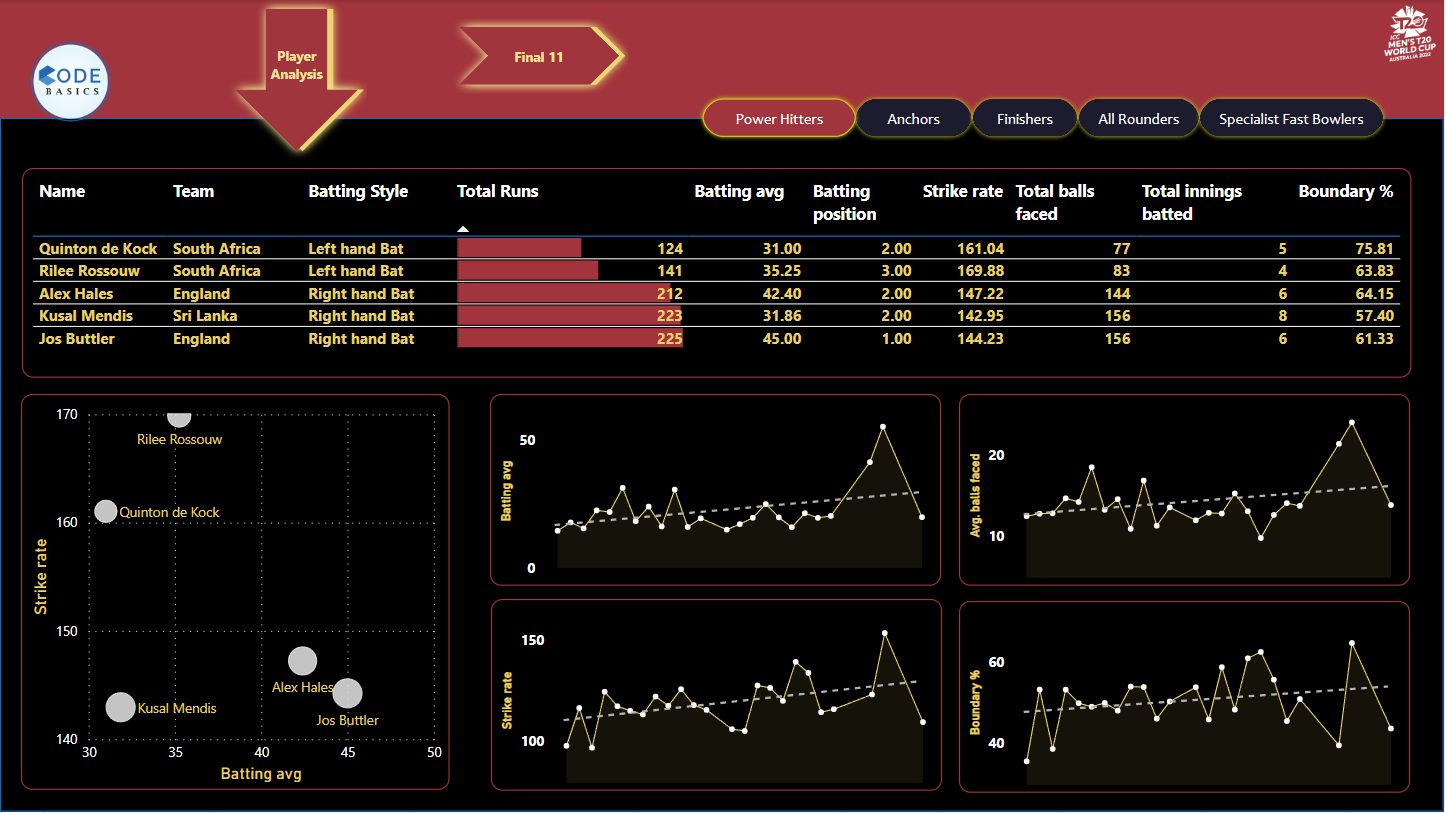

The page's visual inventory and layout, read from the dashboard file:
{"tool":"powerbi","page":{"name":"Finisher / Lower Order Anchor","canvas":[1280,720],"ordinal":2},"visuals":[{"type":"shape","box":[0,113,1280,607.2],"z":0},{"type":"tableEx","fields":{"Values":["dim_players.name","dim_players.team","dim_players.battingStyle","Key_measures.Total Runs","Key_measures.Batting avg","Key_measures.Batting position","Key_measures.Strike rate","Key_measures.Total balls faced","Key_measures.Total innings batted","Key_measures.Boundary %"]},"box":[18.2,159.4,1238.6,162.4],"z":1000},{"type":"scatterChart","fields":{"Category":["dim_players.name"],"X":["Key_measures.Batting avg"],"Y":["Key_measures.Strike rate"],"Size":["Key_measures.Total Runs"],"Series":["dim_players.name"]},"box":[18,343.5,380.4,354.4],"z":2000},{"type":"areaChart","fields":{"Y":["Key_measures.Batting avg"],"Category":["dim_match_summary.matchDate"]},"box":[445.3,343.5,400,170],"z":3000},{"type":"areaChart","fields":{"Y":["Key_measures.Strike rate"],"Category":["dim_match_summary.matchDate"]},"box":[445.3,528.2,400.4,169.7],"z":4000},{"type":"areaChart","fields":{"Y":["Key_measures.Avg. balls faced"],"Category":["dim_match_summary.matchDate"]},"box":[856.7,343.5,400.4,169.7],"z":5000},{"type":"areaChart","fields":{"Y":["Key_measures.Avg. balls faced"],"Category":["dim_match_summary.matchDate"]},"box":[856.7,528.2,400.4,169.7],"z":6000},{"type":"actionButton","box":[754.5,91.8,111,42],"z":7000},{"type":"actionButton","box":[616.5,91.8,144,42],"z":8000},{"type":"actionButton","box":[858.5,91.8,101,42],"z":9000},{"type":"actionButton","box":[952.5,91.8,115,42],"z":10000},{"type":"actionButton","box":[1059.5,91.8,171,42],"z":11000},{"type":"actionButton","title":"Player Analysis","box":[186.2,1.8,126.8,140.1],"z":12000},{"type":"actionButton","title":"Final 11","box":[391,11.5,149,96.7],"z":13000},{"type":"image","box":[19.2,28.2,85.7,86.7],"z":14000},{"type":"image","box":[1220.5,0,59.5,59.5],"z":15000}]}

Visuals, with their boxes in screenshot pixels (x1, y1, x2, y2), scaled from the page's 1280x720 canvas onto the 1445x813 screenshot:
shape: [0,128,1444,812]
tableEx - dim_players.name x dim_players.team: [21,180,1419,363]
scatterChart - dim_players.name x Key_measures.Batting avg: [20,388,450,788]
areaChart - Key_measures.Batting avg x dim_match_summary.matchDate: [503,388,954,580]
areaChart - Key_measures.Strike rate x dim_match_summary.matchDate: [503,596,955,788]
areaChart - Key_measures.Avg. balls faced x dim_match_summary.matchDate: [967,388,1419,579]
areaChart - Key_measures.Avg. balls faced x dim_match_summary.matchDate: [967,596,1419,788]
actionButton: [852,104,977,151]
actionButton: [696,104,859,151]
actionButton: [969,104,1083,151]
actionButton: [1075,104,1205,151]
actionButton: [1196,104,1389,151]
"Player Analysis" actionButton: [210,2,353,160]
"Final 11" actionButton: [441,13,610,122]
image: [22,32,118,130]
image: [1378,0,1444,67]
